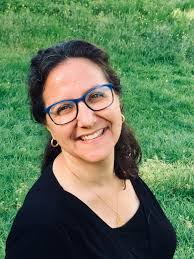middle_eastern_Female: (31, 48, 129, 155)
